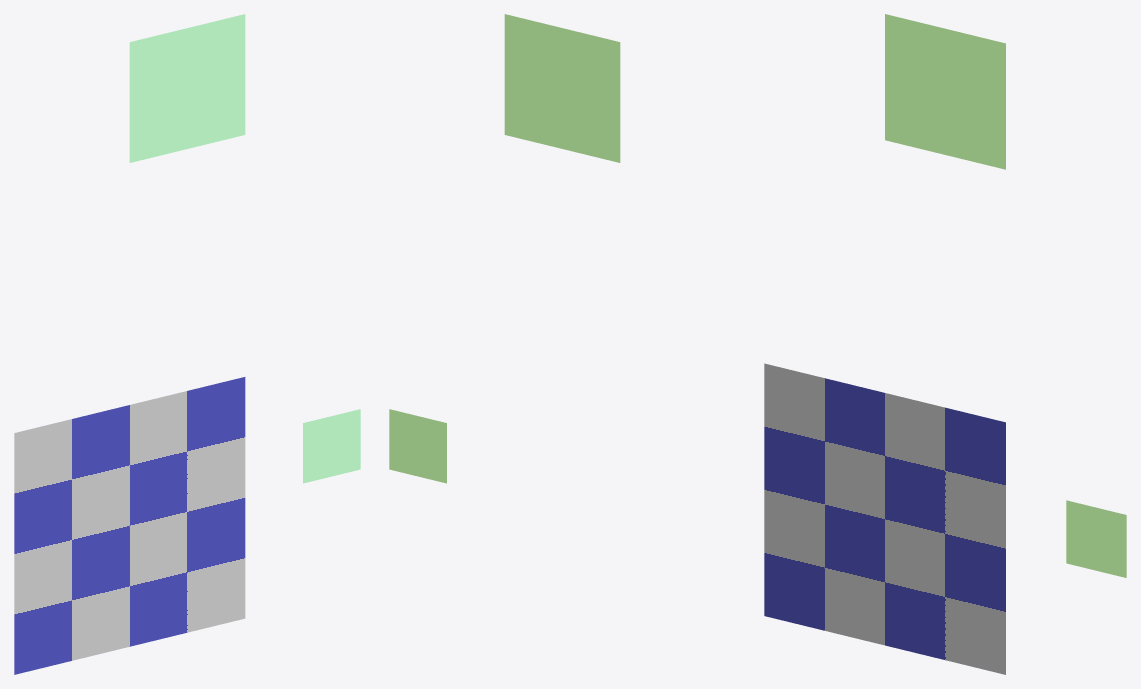
The model's file is sample-scene.gltf.
The picture shows the model from 3 angles, left to right: view 1: azimuth 30°, elevation 25°; view 2: azimuth 150°, elevation 25°; view 3: azimuth 330°, elevation 25°; orthographic projection. The views are drawn at different scales.
Parts seen in each view (by area): view 1: Quad, Matrix, Strip; view 2: Matrix, Strip; view 3: Quad, Matrix, Strip.
Boxes of the visible parts, <box> form: Quad: <box>14,377,245,674</box>; Matrix: <box>129,14,245,162</box>; Strip: <box>303,409,360,483</box>; Matrix: <box>504,14,620,162</box>; Strip: <box>389,409,446,483</box>; Quad: <box>764,363,1005,674</box>; Matrix: <box>885,14,1005,169</box>; Strip: <box>1066,500,1126,577</box>.
Size of the model in its own units: 3 by 5 by 0.
2 materials, 1 textured.
